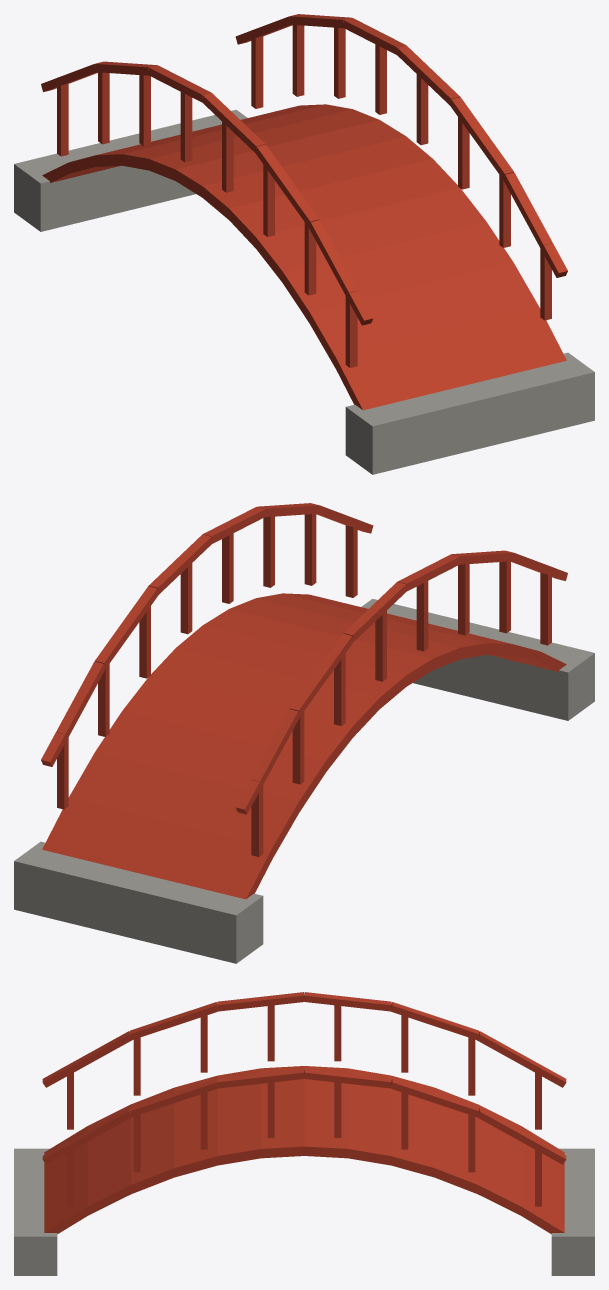
The model's file is hashi.glb.
The picture shows the model from 3 angles, top to bottom: view 1: azimuth 30°, elevation 25°; view 2: azimuth 150°, elevation 25°; view 3: azimuth 270°, elevation 25°; orthographic projection. The views are drawn at different scales.
Visible parts, largest first — view 1: hashi; view 2: hashi; view 3: hashi.
Boxes of the visible parts, box(x1,y1,x2,y2) form: hashi: box(14, 14, 594, 474); hashi: box(14, 503, 594, 963); hashi: box(14, 992, 594, 1275).
Size of the model in its own units: 2.4 by 2.54 by 6.7.
